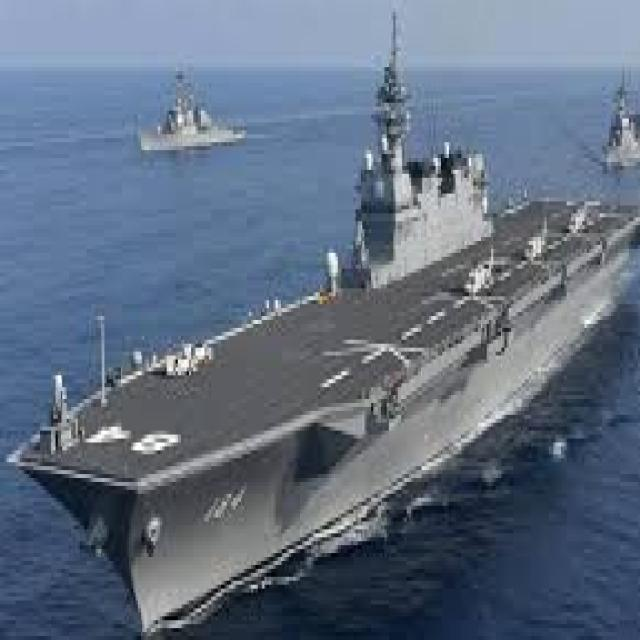navalvessels: (15, 31, 640, 620), (134, 67, 250, 162), (600, 59, 640, 170)
